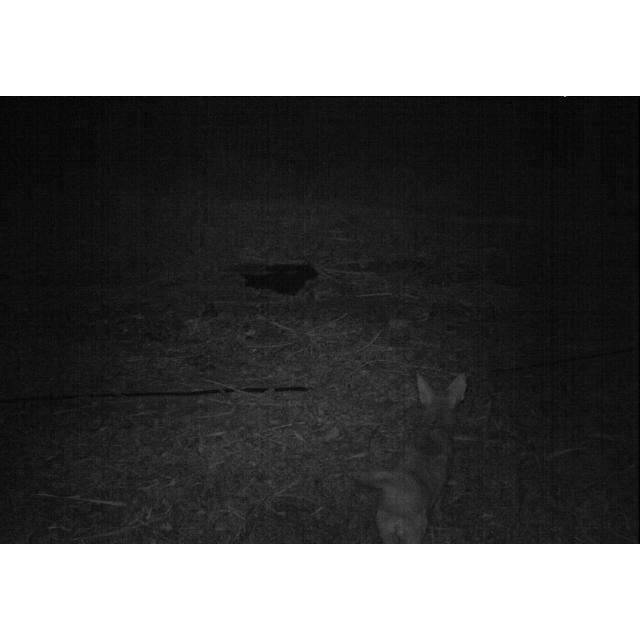animals: (358, 369, 472, 545)
